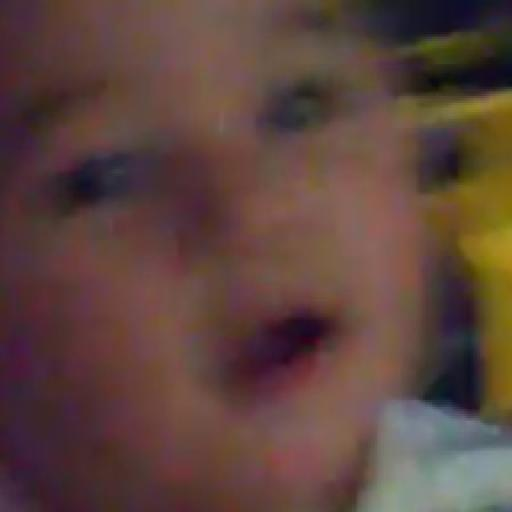Autism: (48, 30, 449, 500)
